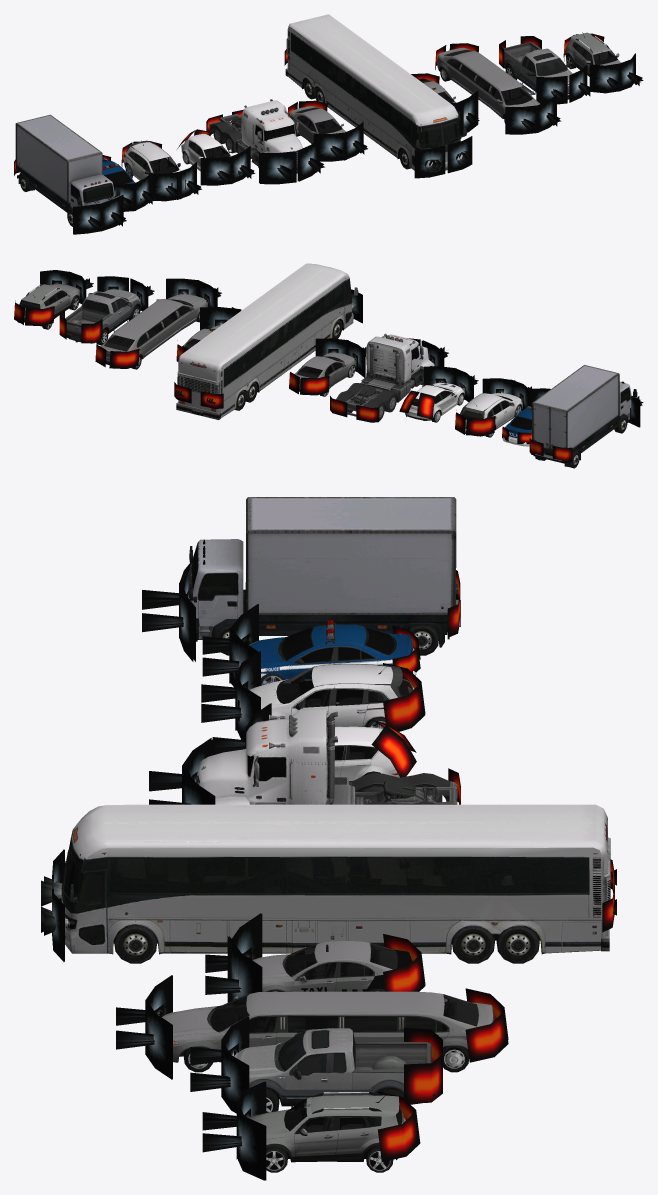
Rendered from asphalt_8_generic_traffic_cars.glb.
3 views of the same model, one above another, from view 1: azimuth 30°, elevation 25°; view 2: azimuth 150°, elevation 25°; view 3: azimuth 270°, elevation 25° (orthographic). The views are drawn at different scales.
Parts seen in each view (by area): view 1: chassis_carpaint, chassis_carpaint.007, chassis_nonwreck_pivot_carpaint, chassis_glass, chassis_carpaint.002, chassis_carpaint.003, lights_headlights_glows, lights_headlights_pivot_glows, chassis_carpaint.004, chassis_carpaint.006, lights_headlights_pivot_glows.004, lights_headlights_pivot_glows.009 (+16 smaller); view 2: chassis_carpaint, chassis_carpaint.007, chassis_nonwreck_pivot_carpaint, chassis_carpaint.002, chassis_glass, chassis_carpaint.003, chassis_carpaint.004, chassis_carpaint.006, chassis_pivot_carpaint, chassis_carpaint.001, lights_headlights_pivot_glows.002, lights_headlights_pivot_glows.001 (+18 smaller); view 3: chassis_carpaint, chassis_carpaint.007, chassis_glass, chassis_nonwreck_pivot_carpaint, chassis_carpaint.002, chassis_carpaint.003, chassis_carpaint.006, chassis_carpaint.004, chassis_pivot_carpaint.001, chassis_carpaint.005, chassis_glass.002, chassis_carpaint.001 (+28 smaller).
Boxes of the visible parts, left/top/right/bottom form: chassis_carpaint: left=285, top=14, right=466, bottom=170; chassis_carpaint.007: left=15, top=114, right=120, bottom=213; chassis_nonwreck_pivot_carpaint: left=209, top=99, right=302, bottom=173; chassis_glass: left=291, top=32, right=460, bottom=149; chassis_carpaint.002: left=437, top=47, right=539, bottom=118; chassis_carpaint.003: left=503, top=42, right=572, bottom=99; lights_headlights_glows: left=259, top=138, right=319, bottom=184; lights_headlights_pivot_glows: left=414, top=136, right=472, bottom=178; chassis_carpaint.004: left=123, top=140, right=181, bottom=180; chassis_carpaint.006: left=565, top=32, right=620, bottom=76; lights_headlights_pivot_glows.004: left=505, top=94, right=556, bottom=134; lights_headlights_pivot_glows.009: left=73, top=195, right=123, bottom=234; chassis_carpaint: left=176, top=263, right=358, bottom=419; chassis_carpaint.007: left=532, top=365, right=637, bottom=467; chassis_nonwreck_pivot_carpaint: left=336, top=333, right=434, bottom=416; chassis_carpaint.002: left=100, top=294, right=207, bottom=364; chassis_glass: left=223, top=278, right=351, bottom=386; chassis_carpaint.003: left=60, top=289, right=141, bottom=343; chassis_carpaint.004: left=460, top=393, right=522, bottom=436; chassis_carpaint.006: left=19, top=283, right=79, bottom=326; chassis_pivot_carpaint: left=294, top=352, right=356, bottom=391; chassis_carpaint.001: left=405, top=382, right=464, bottom=420; lights_headlights_pivot_glows.002: left=424, top=366, right=473, bottom=402; lights_headlights_pivot_glows.001: left=315, top=338, right=365, bottom=377; chassis_carpaint: left=61, top=804, right=610, bottom=954; chassis_carpaint.007: left=188, top=497, right=460, bottom=647; chassis_glass: left=61, top=840, right=589, bottom=905; chassis_nonwreck_pivot_carpaint: left=195, top=708, right=457, bottom=804; chassis_carpaint.002: left=162, top=991, right=494, bottom=1062; chassis_carpaint.003: left=234, top=1028, right=435, bottom=1107; chassis_carpaint.006: left=249, top=1092, right=405, bottom=1162; chassis_carpaint.004: left=249, top=663, right=413, bottom=731; chassis_pivot_carpaint.001: left=252, top=940, right=412, bottom=991; chassis_carpaint.005: left=249, top=620, right=416, bottom=680; chassis_glass.002: left=210, top=994, right=478, bottom=1032; chassis_carpaint.001: left=334, top=726, right=399, bottom=780.
Bounding box in the file's own units: 34.65 × 3.83 × 14.9.
Materials: 12 (11 with a texture image).
